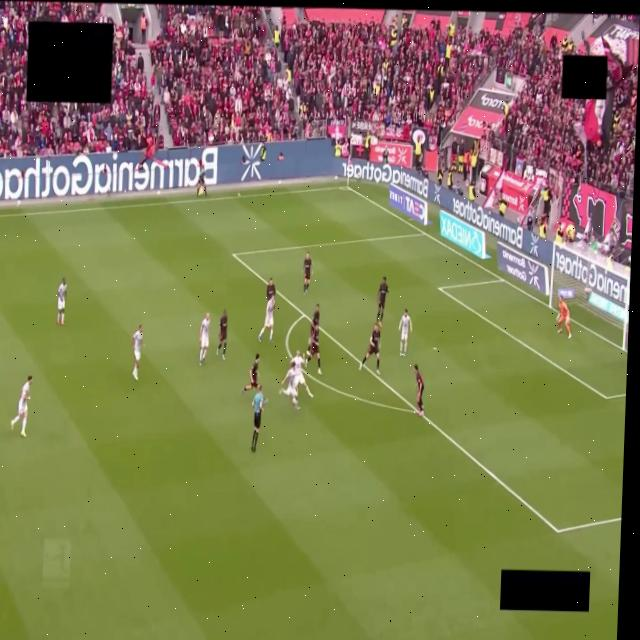player: (10, 376, 31, 437), (359, 323, 379, 375), (291, 351, 312, 397), (280, 361, 298, 409), (305, 323, 321, 374), (258, 295, 274, 341), (375, 277, 388, 328), (242, 354, 258, 393), (556, 297, 570, 339), (399, 309, 411, 356), (132, 324, 142, 379), (307, 304, 319, 348), (199, 313, 209, 365), (216, 310, 226, 359), (57, 277, 67, 325), (414, 364, 423, 417), (303, 252, 311, 294), (266, 278, 275, 301)
referee: (250, 385, 267, 452)
